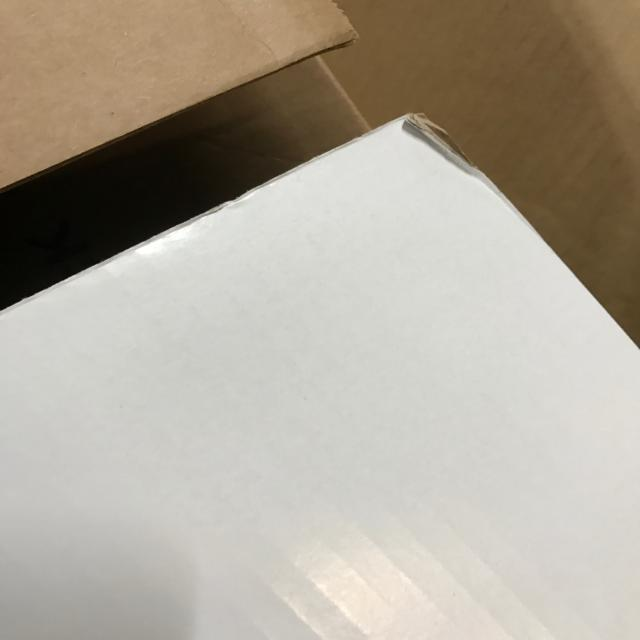cardboard: (1, 110, 639, 639)
